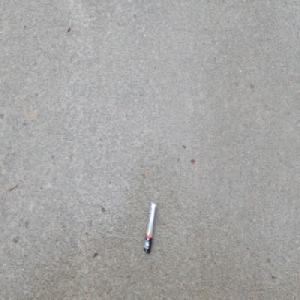Battery: (142, 199, 157, 255)
